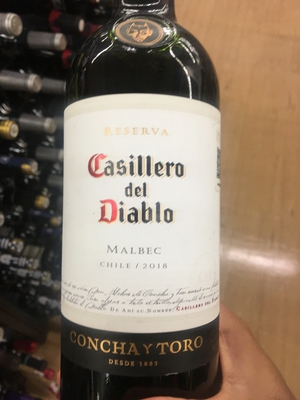casillero del diablo malbec: (55, 22, 228, 400)
